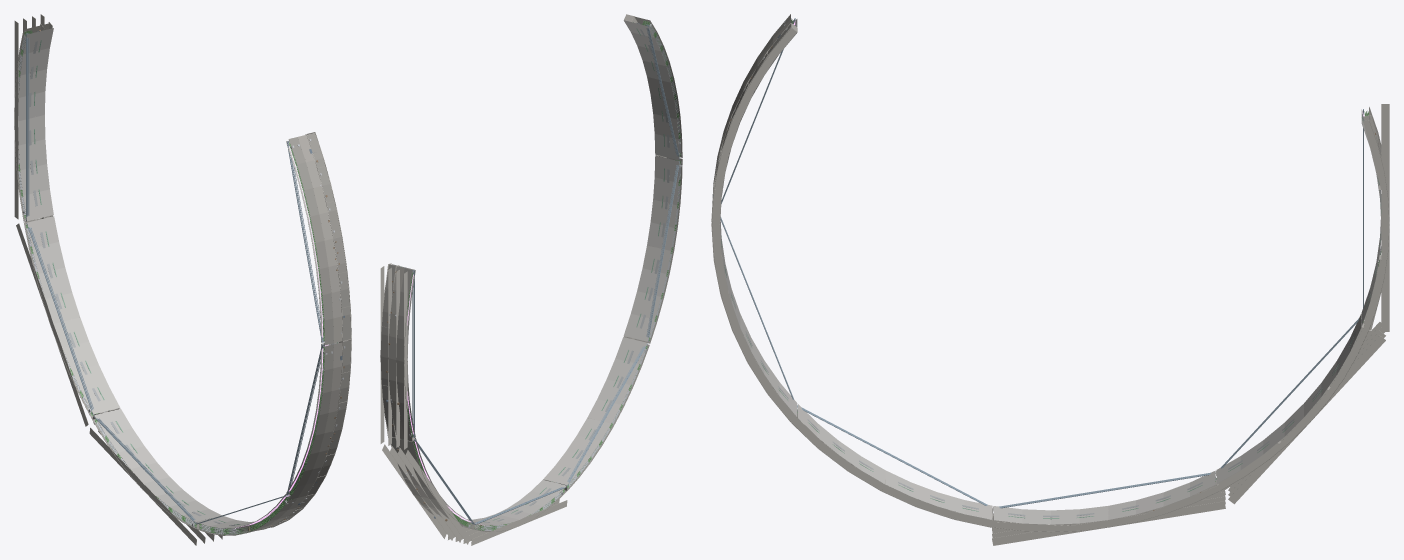
The model's file is xuanshu_interior_C25.glb.
3 renders of one model, left to right at view 1: azimuth 30°, elevation 25°; view 2: azimuth 150°, elevation 25°; view 3: azimuth 270°, elevation 25°, orthographic. The views are drawn at different scales.
Visible parts, largest first — view 1: UNIT-AGR-003, UNIT-AGR-002, UNIT-GEN-001; view 2: UNIT-AGR-002, UNIT-AGR-003, UNIT-GEN-001; view 3: UNIT-AGR-003, UNIT-AGR-002, UNIT-GEN-001.
Boxes of the visible parts, x1=… form: UNIT-AGR-003: x1=14, y1=22, x2=221, y2=529; UNIT-AGR-002: x1=196, y1=132, x2=351, y2=535; UNIT-GEN-001: x1=14, y1=14, x2=222, y2=545; UNIT-AGR-002: x1=543, y1=14, x2=682, y2=490; UNIT-AGR-003: x1=380, y1=263, x2=566, y2=531; UNIT-GEN-001: x1=380, y1=266, x2=567, y2=545; UNIT-AGR-003: x1=992, y1=107, x2=1389, y2=533; UNIT-AGR-002: x1=711, y1=14, x2=993, y2=527; UNIT-GEN-001: x1=992, y1=104, x2=1389, y2=545.
Bounding box in the file's own units: 13.31 × 225 × 267.
